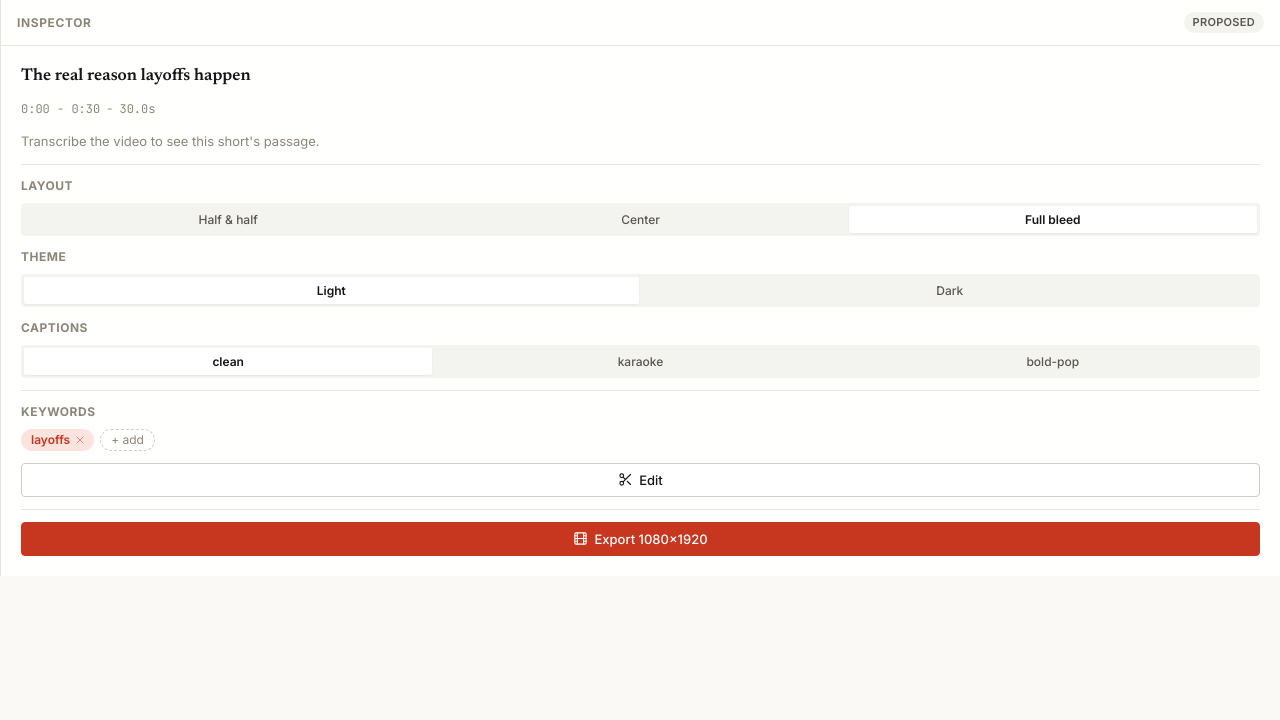
Test: Inspector export progress › fills the export button as render_progress events arrive
Click the button "Export 1080x1920": (640, 539) [21,522,1260,556]
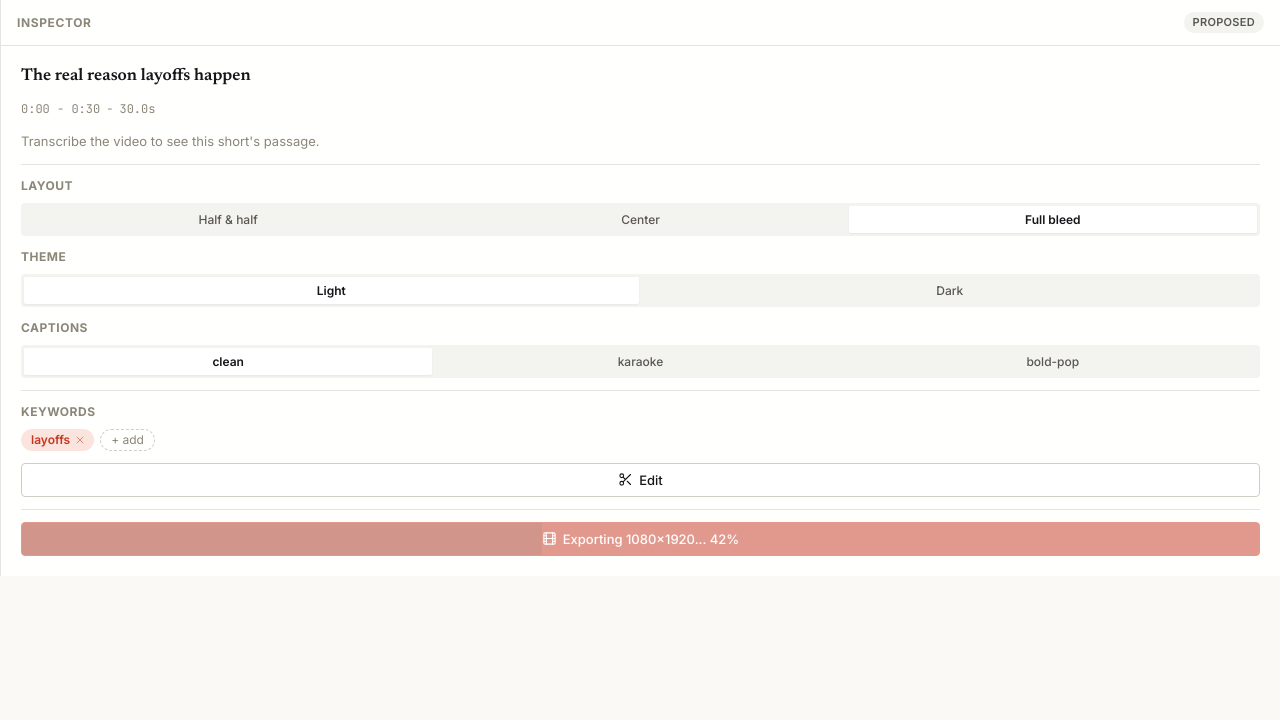
Expected: the button "Exporting 1080x1920... 42%" is shown, [21,522,1260,556]
